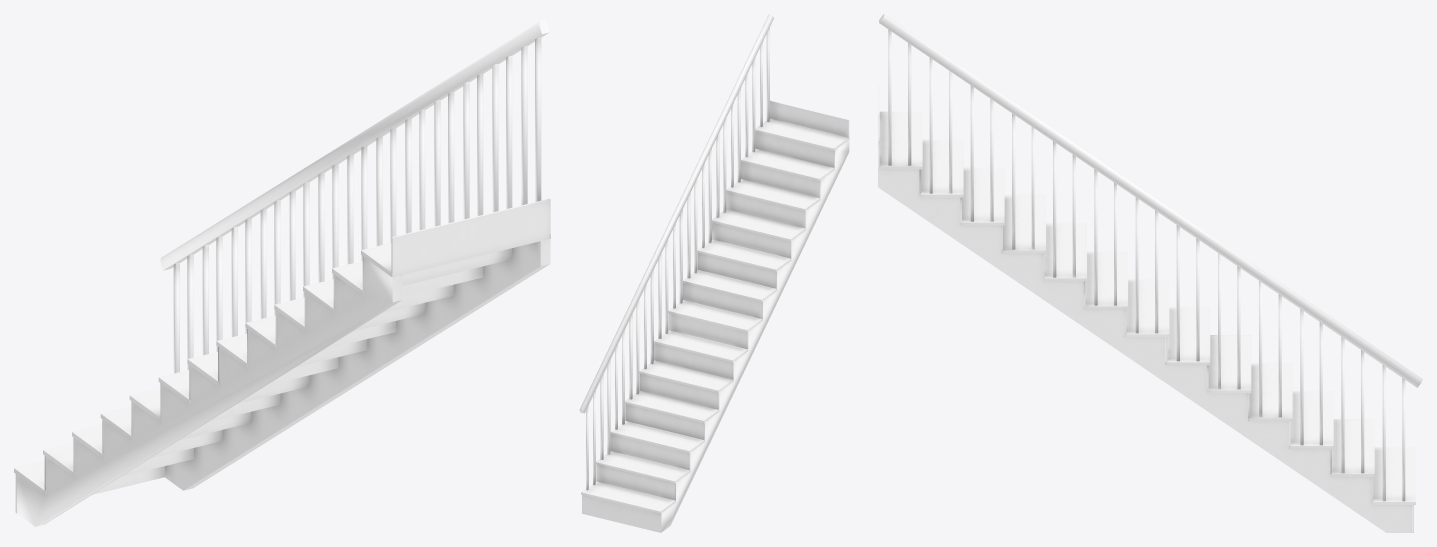
File: Stairs Open Stringer.glb
3 renders of one model, left to right at view 1: azimuth 30°, elevation 25°; view 2: azimuth 150°, elevation 25°; view 3: azimuth 270°, elevation 25°, orthographic. The views are drawn at different scales.
Parts seen in each view (by area): view 1: Stairs Open Stringer; view 2: Stairs Open Stringer; view 3: Stairs Open Stringer.
Boxes of the visible parts, x1,y1,x2,y2 form: Stairs Open Stringer: [14, 20, 550, 526]; Stairs Open Stringer: [579, 14, 849, 532]; Stairs Open Stringer: [878, 14, 1422, 532].
Size of the model in its own units: 0.8 by 3.5 by 3.34.
Materials: 1 (1 with a texture image).
